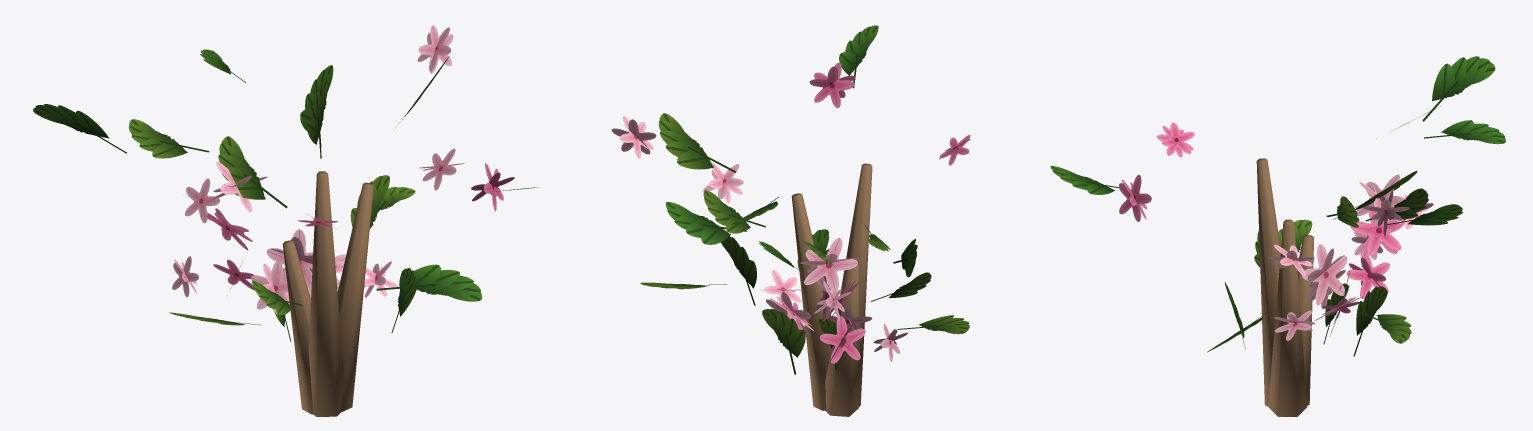
File: pink_shrub_small.glb
3 views of the same model, side by side, from view 1: azimuth 30°, elevation 25°; view 2: azimuth 150°, elevation 25°; view 3: azimuth 270°, elevation 25° (orthographic). The views are drawn at different scales.
Parts seen in each view (by area): view 1: pink_shrub_small; view 2: pink_shrub_small; view 3: pink_shrub_small.
Part boxes in pixels (x1,y1,x2,y2): pink_shrub_small: [33, 25, 539, 416]; pink_shrub_small: [611, 25, 970, 416]; pink_shrub_small: [1050, 56, 1505, 416].
Size of the model in its own units: 1.17 by 0.918 by 1.33.
5 materials, 4 textured.
